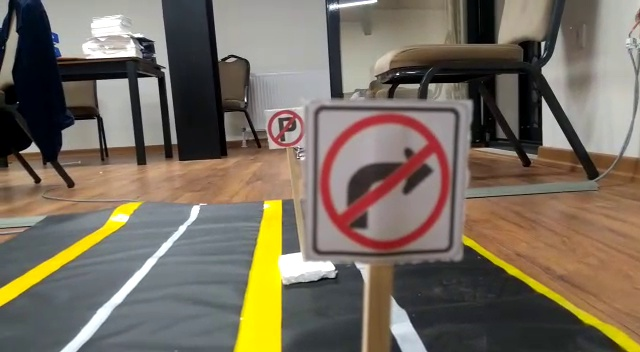park_yapilmaz: (265, 109, 303, 148)
saga_donulmez: (310, 101, 462, 258)
